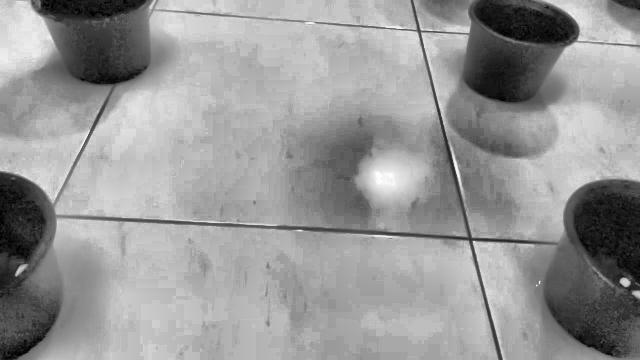pot: (544, 180, 640, 358), (463, 0, 578, 102), (30, 0, 152, 84)
